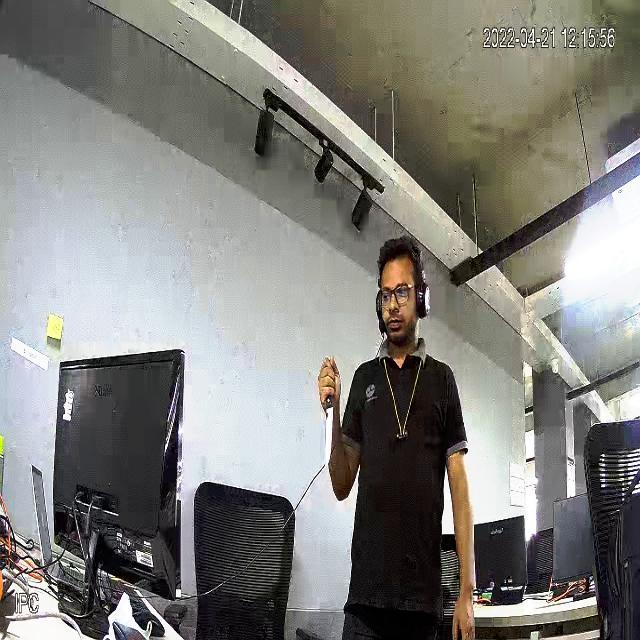Knife: (308, 349, 346, 472)
